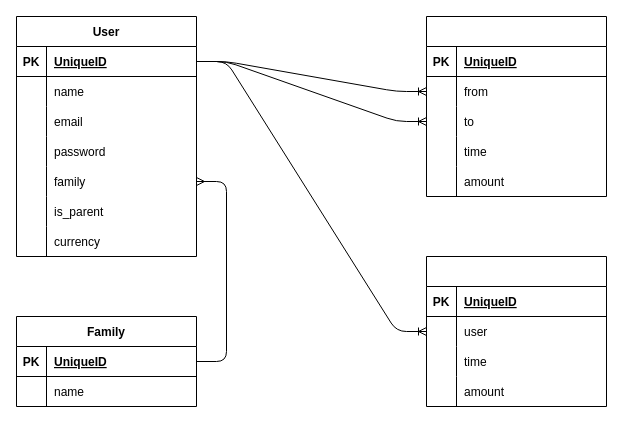
This 623x423 diagram has some shape labels left out. Here are the shapes that lost their labels. From the top down, the box of each, then its label:
(426, 16, 606, 196): Transaction
(426, 256, 606, 406): History
